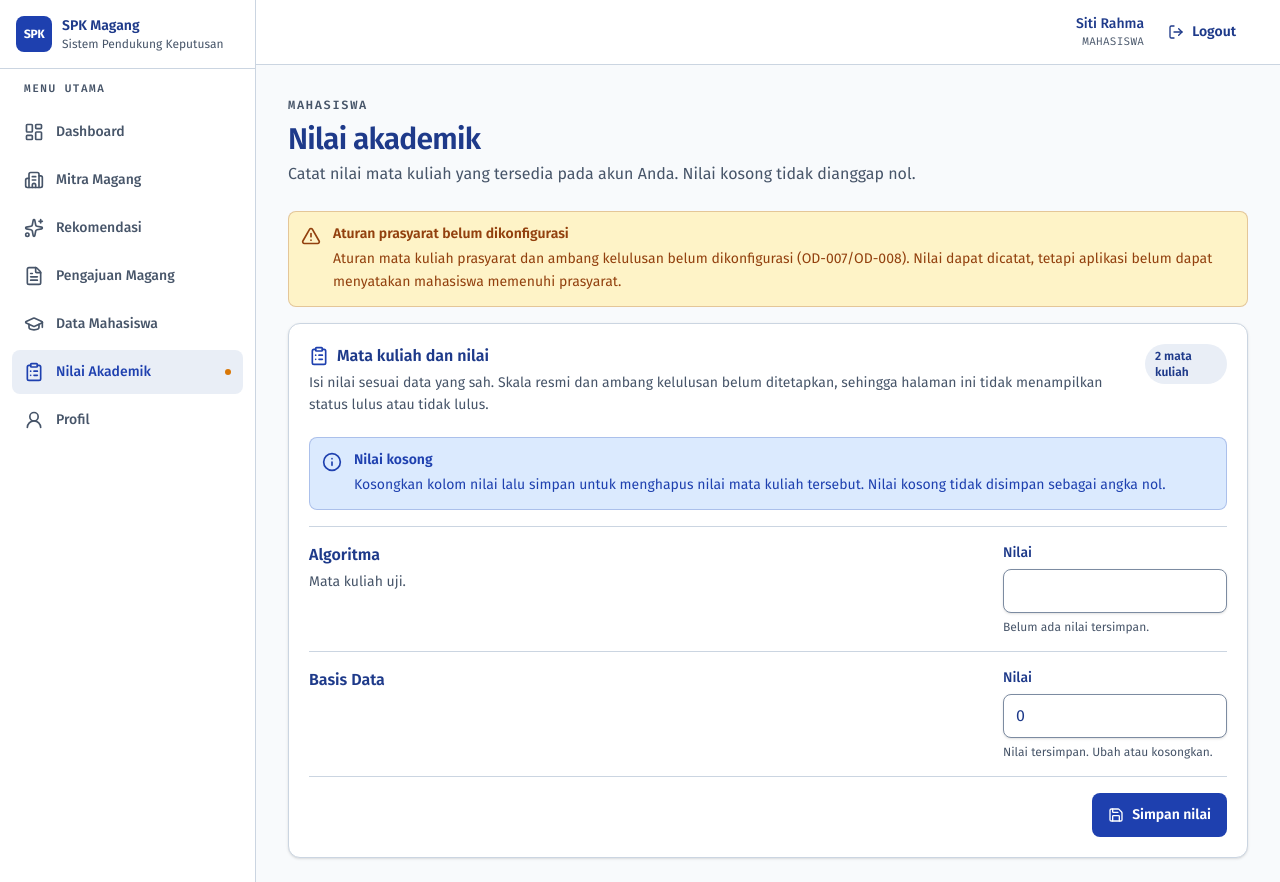
it: StudentGradesPage › menampilkan error jaringan saat penyimpanan gagal
Click the button "Simpan nilai" at {"x": 1160, "y": 815}, box [1092, 793, 1227, 837]
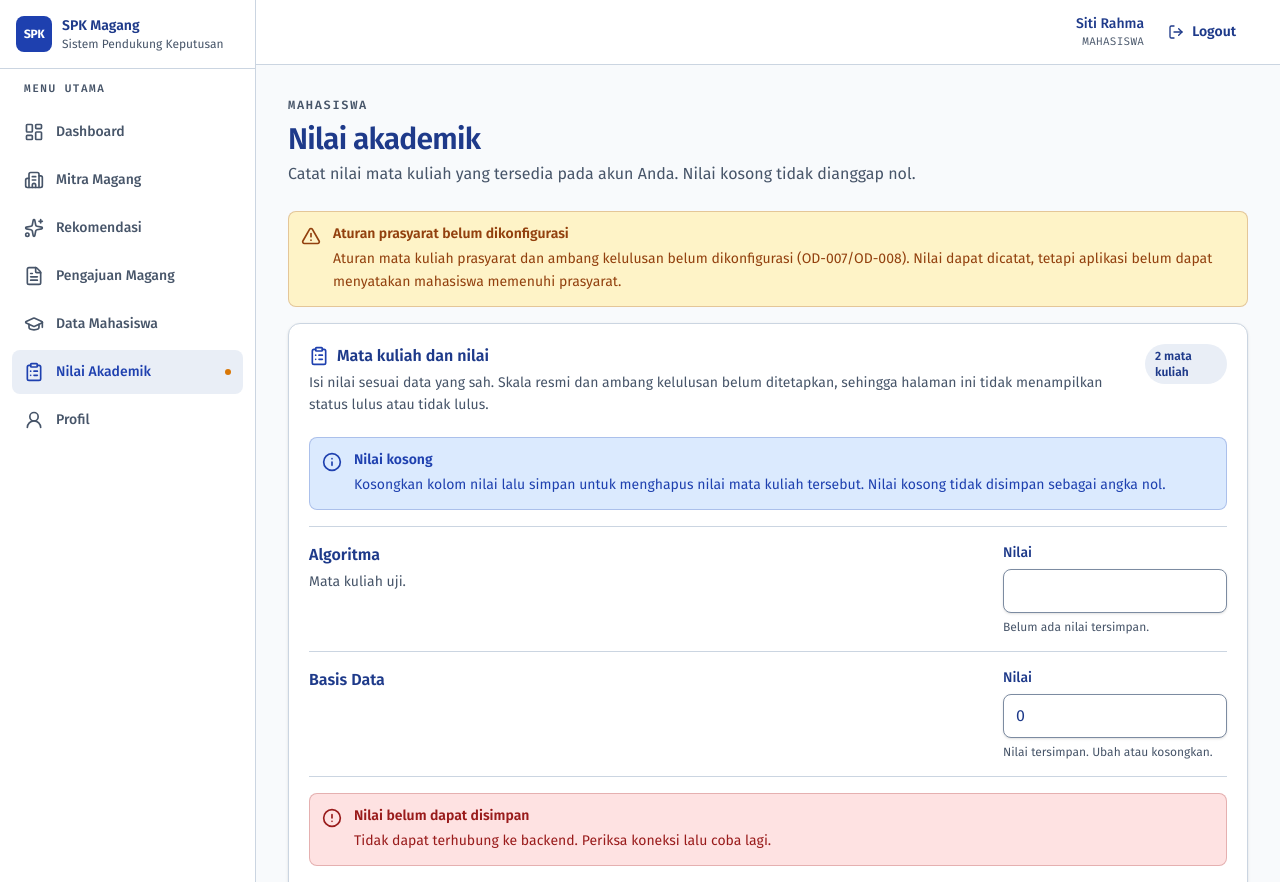
Check: the text "Tidak dapat terhubung ke backend. Periksa koneksi lalu coba lagi." is shown, box [354, 830, 771, 853]
Check: the text "Nilai belum dapat disimpan" is shown, box [354, 807, 529, 824]
